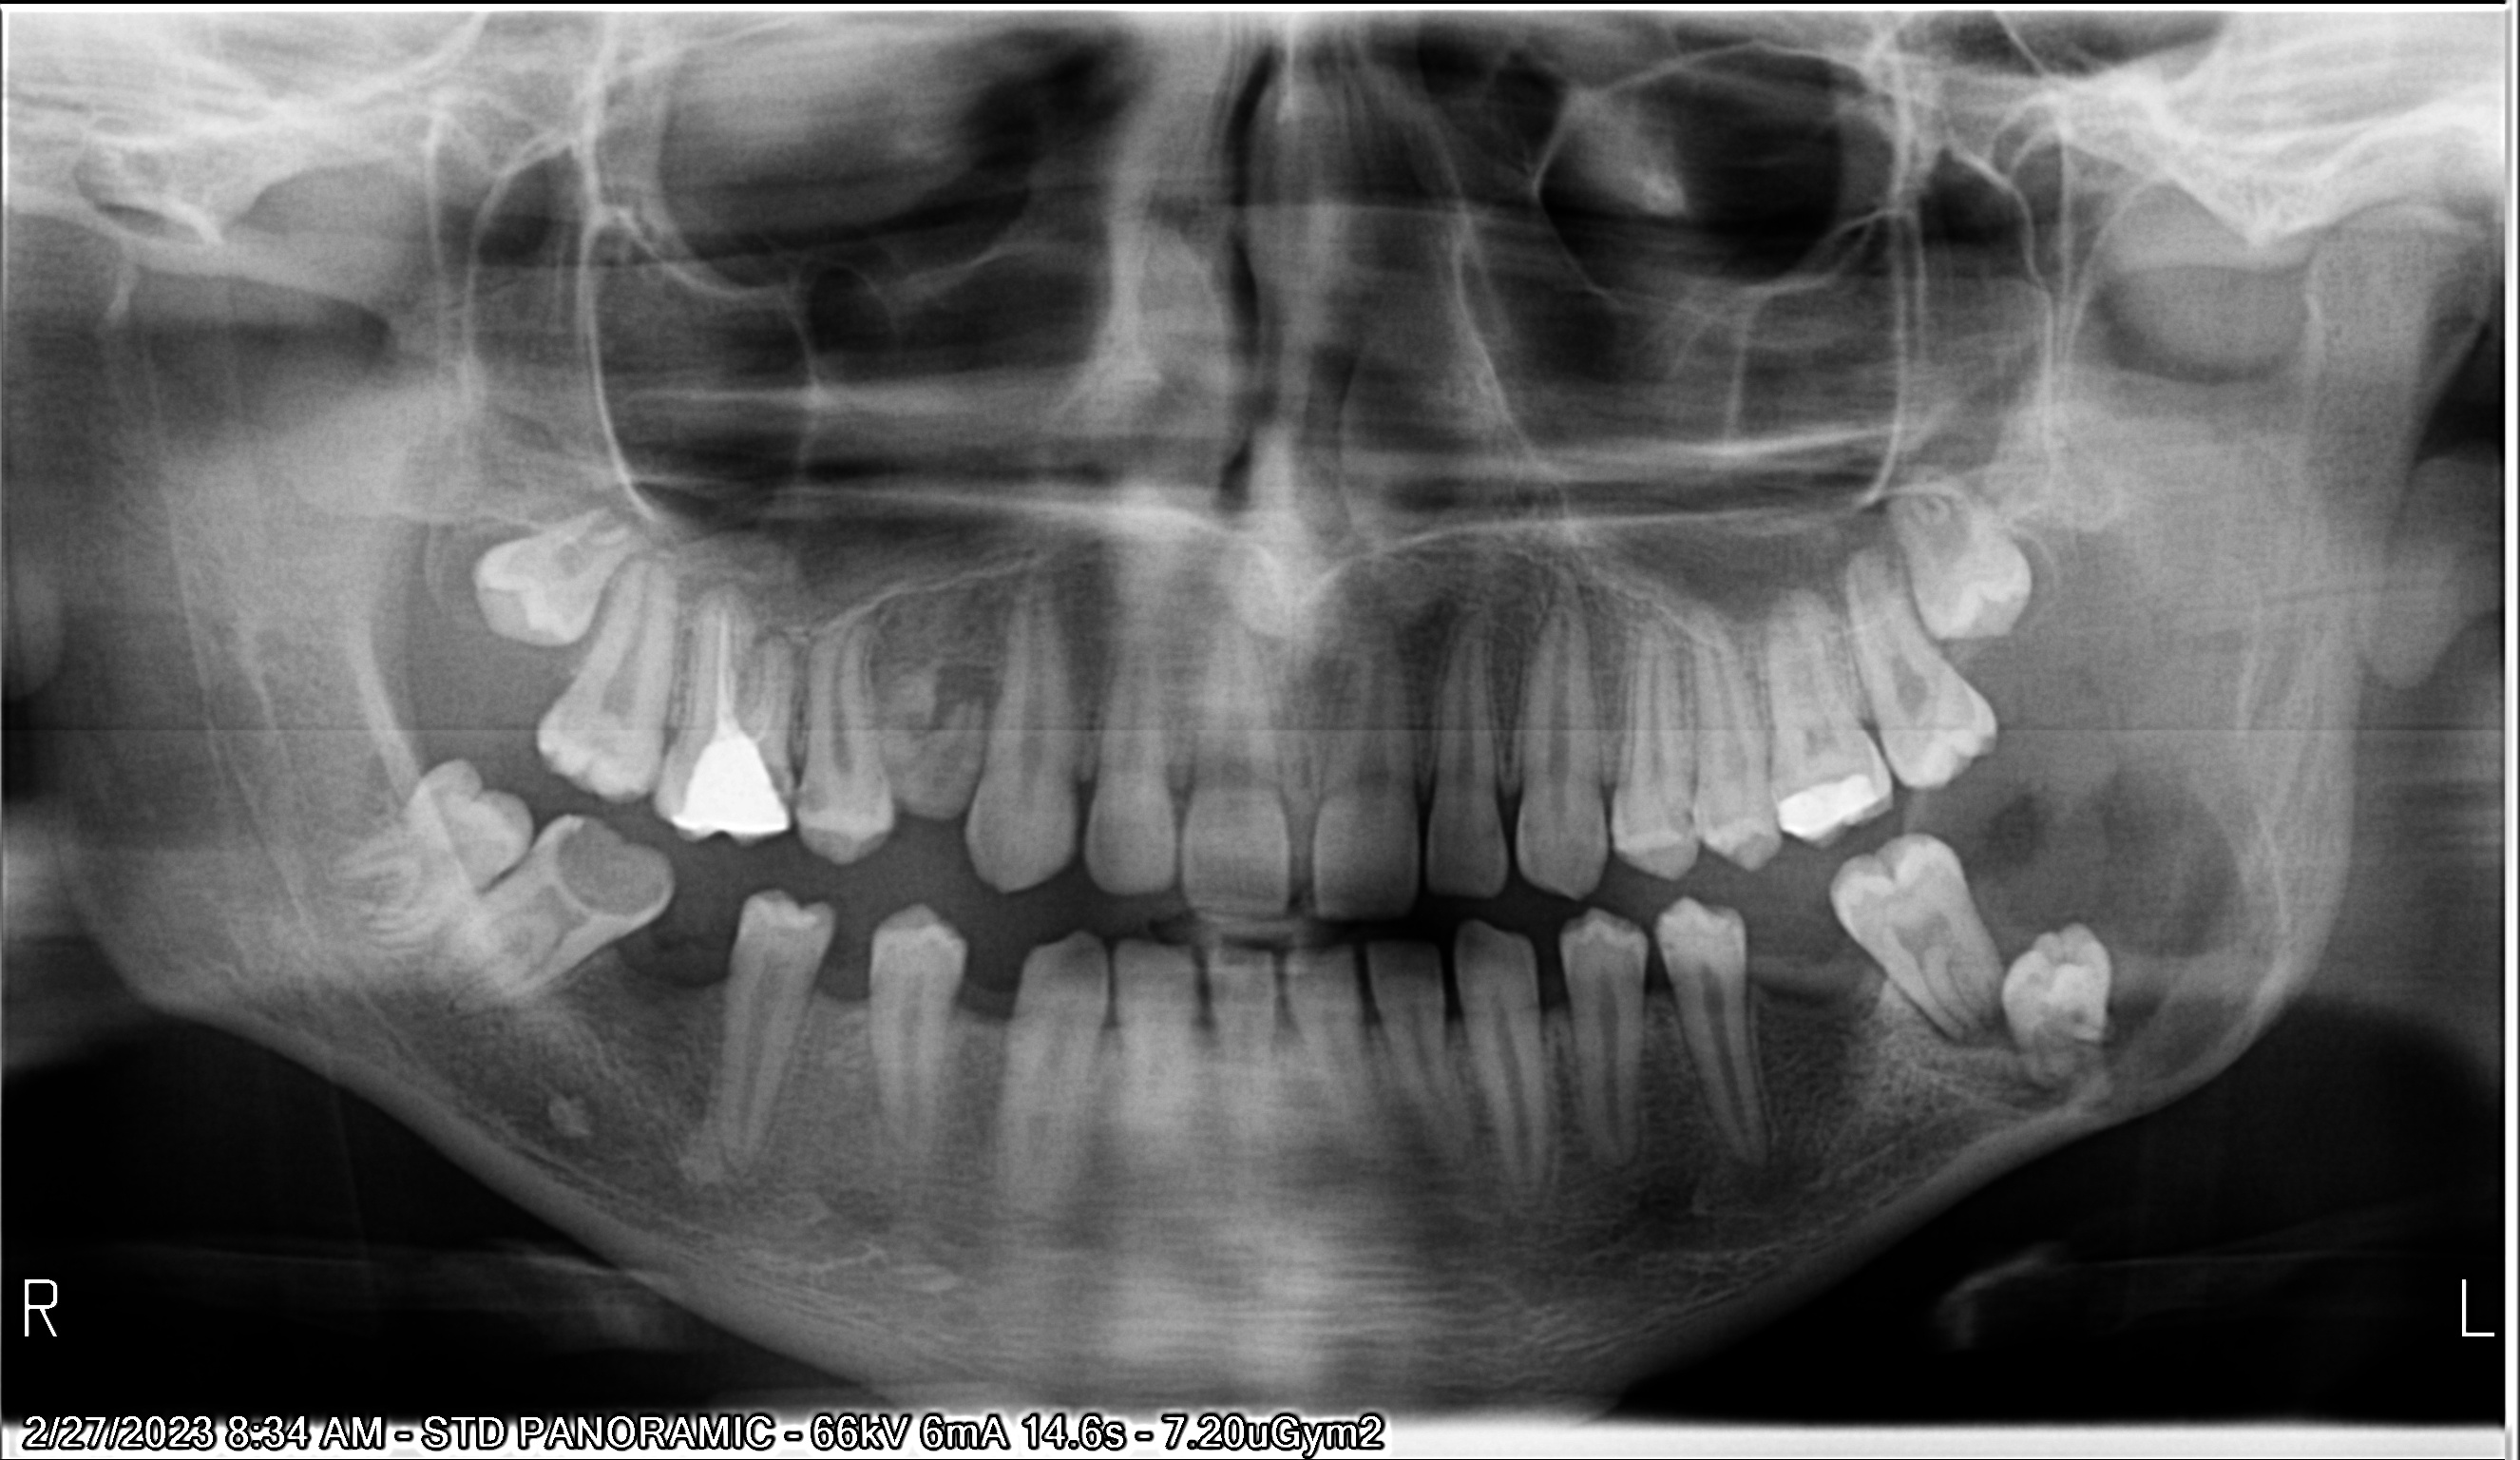API: (919, 648, 1016, 730)
BON: (940, 968, 1026, 1065), (1831, 947, 1907, 1039), (797, 958, 889, 1027), (1528, 968, 1584, 1039), (691, 940, 747, 1008)
CAR: (549, 808, 669, 928)
END: (700, 584, 794, 746)
IMT: (333, 740, 551, 942), (1867, 443, 2049, 650), (464, 474, 653, 662), (1980, 906, 2141, 1111)
OBT: (655, 744, 802, 845), (1770, 763, 1886, 846)
